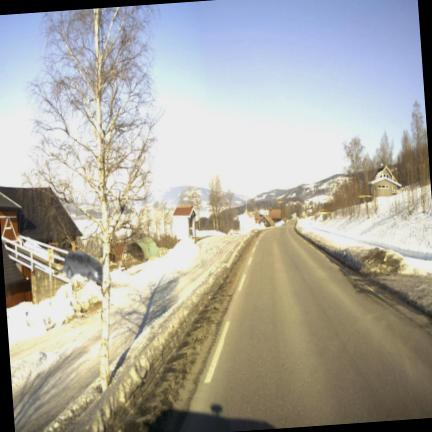Road: (180, 225, 431, 431)
